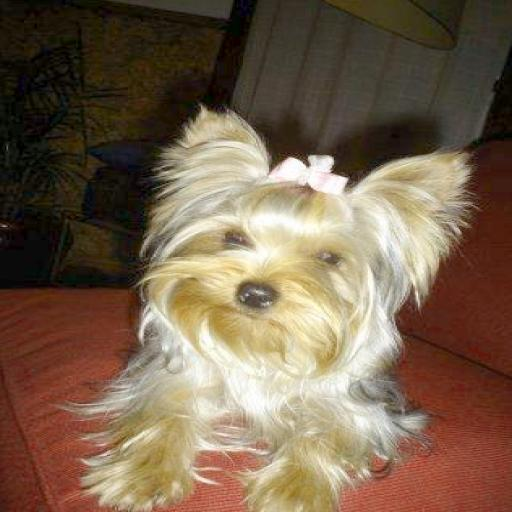dog_face: (150, 111, 461, 351)
